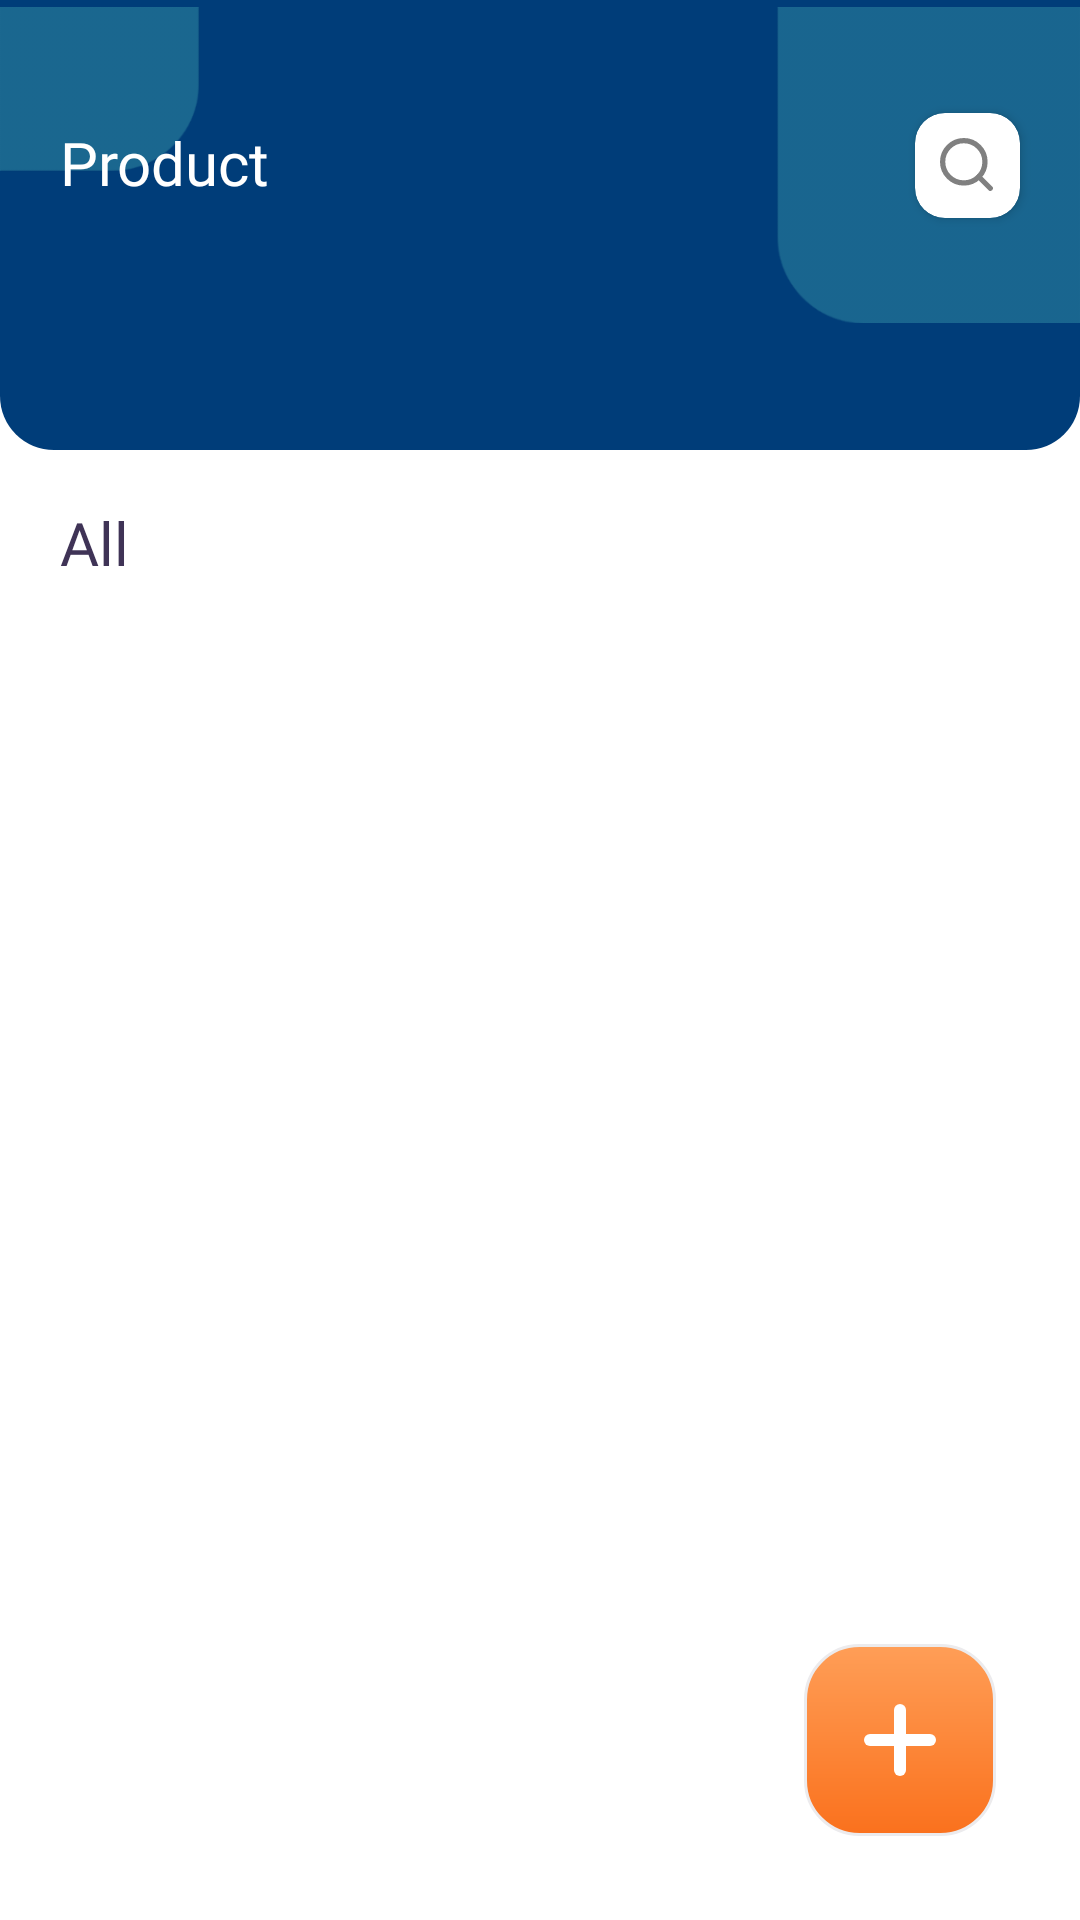

Point at icon controls on the screen. Image size 1080*1920, points as (x,y).
plus: (900,1740)
search: (966,164)
